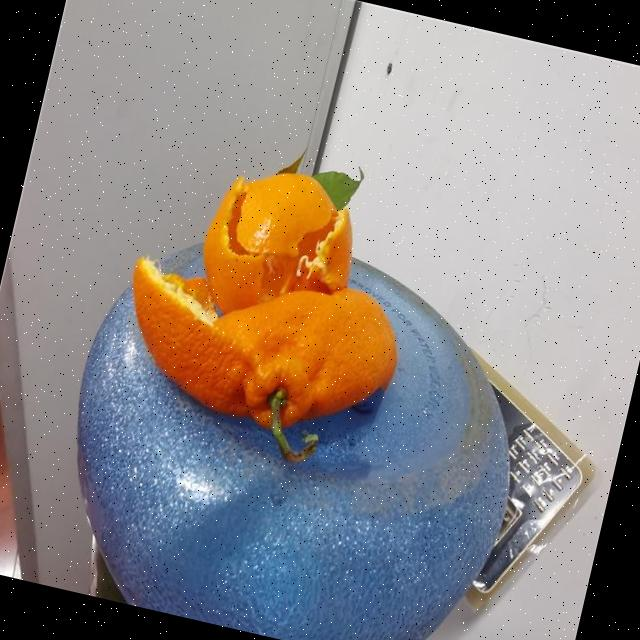orange-peel: (100, 139, 434, 467), (188, 154, 369, 338)
